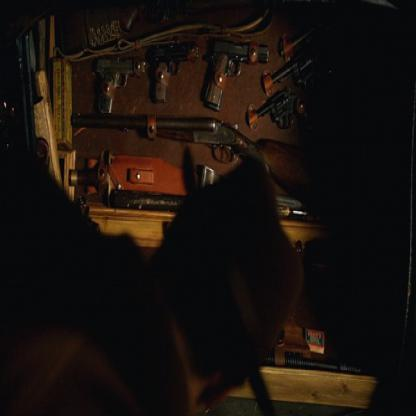Gun: (64, 11, 361, 234), (260, 346, 367, 379)
